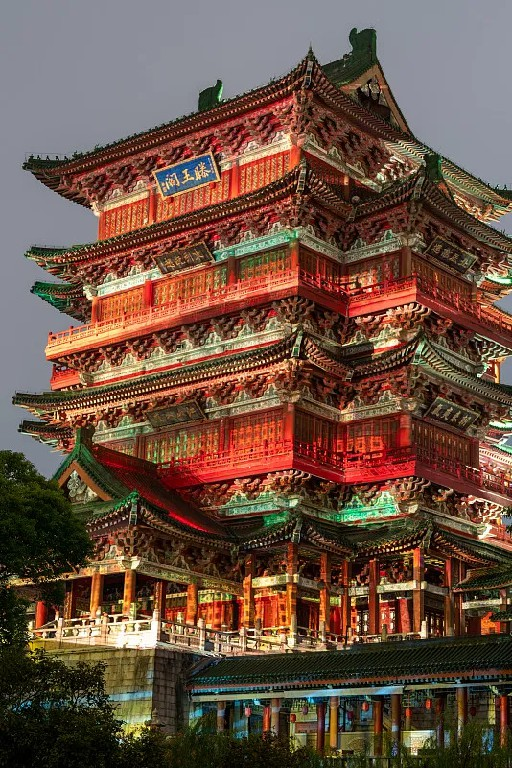Teng: (12, 26, 512, 659)
